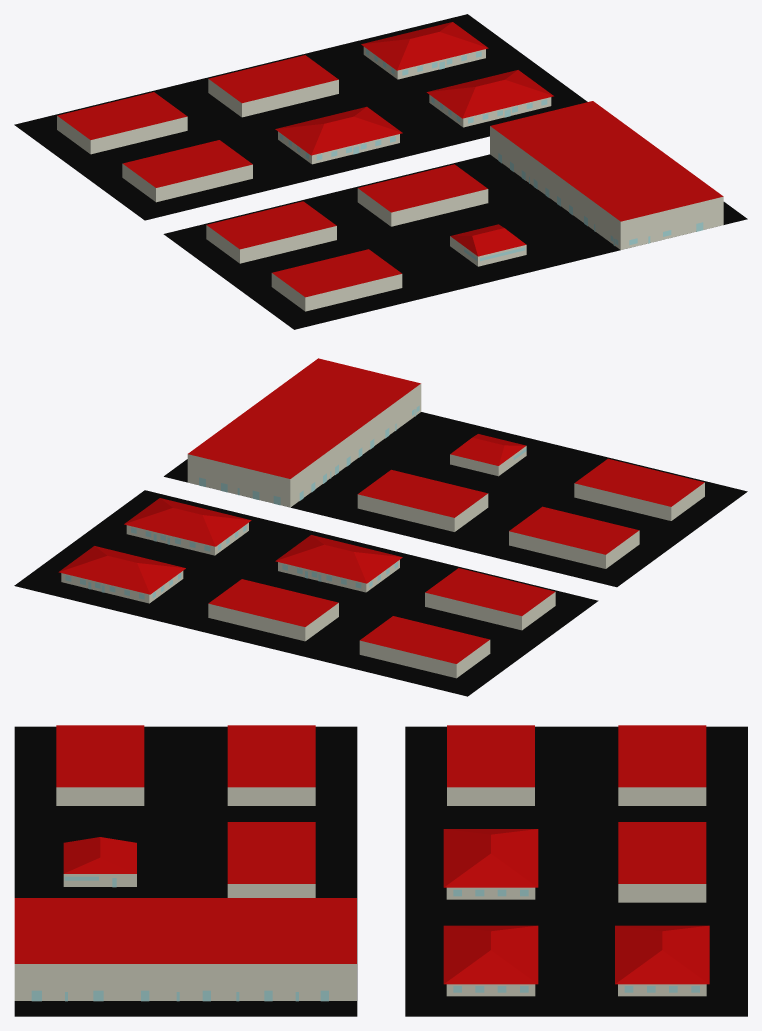
The picture shows the model from 3 angles, top to bottom: view 1: azimuth 30°, elevation 25°; view 2: azimuth 150°, elevation 25°; view 3: azimuth 270°, elevation 25°; orthographic projection. The views are drawn at different scales.
Visible parts, largest first — view 1: Ground, Roofs, Walls, Windows; view 2: Ground, Roofs, Walls, Windows; view 3: Ground, Roofs, Walls, Windows.
Part boxes in pixels (x1,y1,x2,y2): Ground: (14,14,747,329); Roofs: (57,22,723,297); Walls: (57,47,723,311); Windows: (280,49,703,261); Ground: (14,412,747,696); Roofs: (58,358,704,663); Walls: (61,384,704,678); Windows: (65,405,526,599); Ground: (14,726,747,1016); Roofs: (14,725,709,984); Walls: (14,787,706,1000); Windows: (31,876,699,1001).
Bounding box in the file's own units: 142 × 8.53 × 153.
